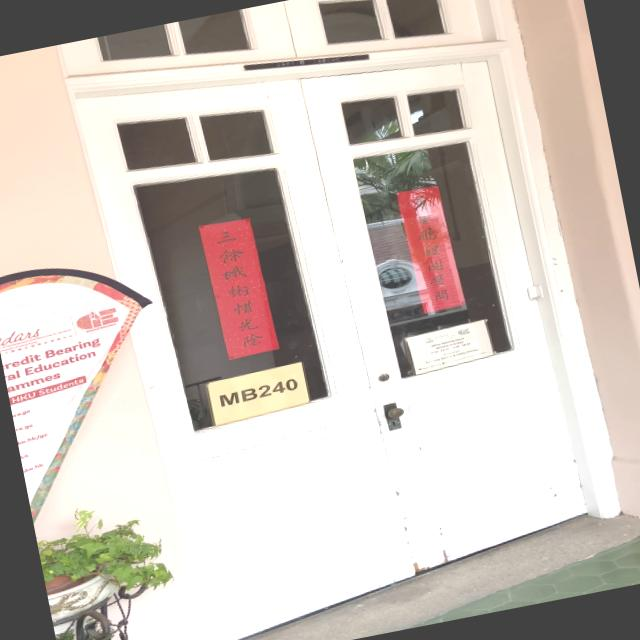room240: (215, 370, 302, 412)
